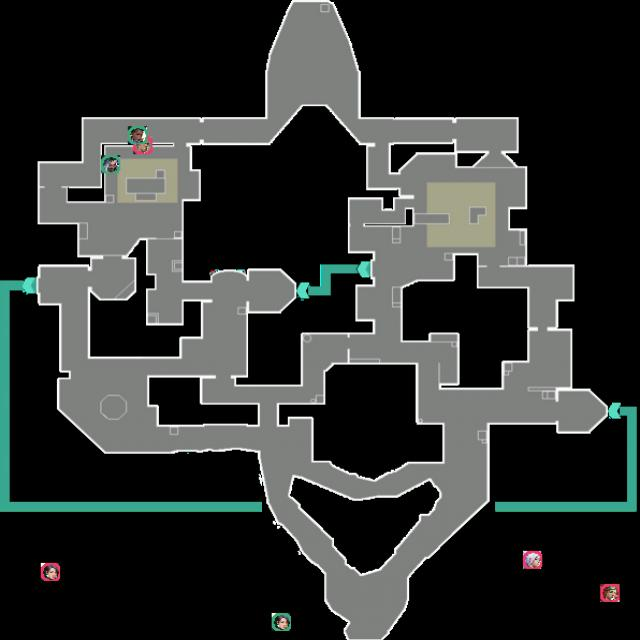atk_gekko: (133, 136, 153, 154)
atk_jett: (523, 551, 542, 569)
atk_sage: (41, 563, 60, 581)
atk_skye: (600, 584, 620, 602)
def_astra: (128, 126, 147, 144)
def_fade: (101, 156, 120, 173)
def_sage: (272, 613, 291, 631)
